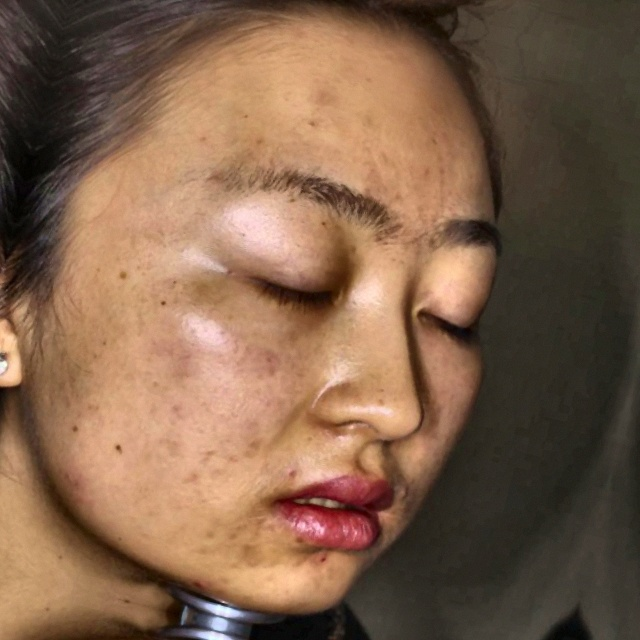comedone: (182, 573, 222, 595), (312, 542, 340, 568)
